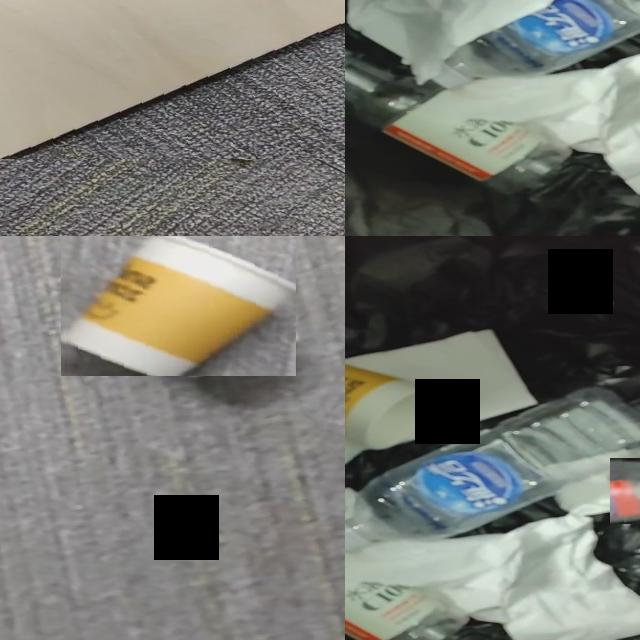bottle: (345, 387, 640, 550), (345, 50, 571, 190), (432, 0, 640, 88), (345, 553, 467, 640), (611, 461, 640, 523)
carton: (0, 0, 345, 157)
dixie_cup: (66, 236, 296, 376), (345, 364, 441, 449)
paper: (345, 513, 640, 640), (416, 55, 640, 194), (345, 330, 535, 436), (348, 0, 552, 84), (547, 450, 640, 516)
